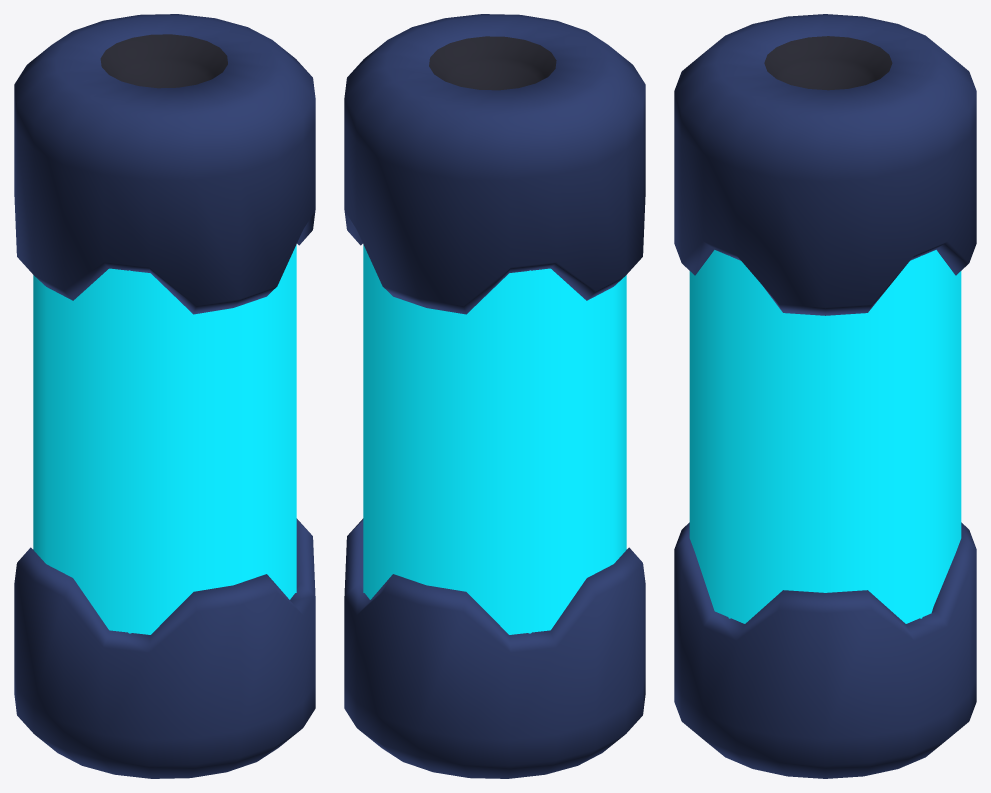
Rendered from CycleEngine_bombone_v2 (1).fbx.
3 views of the same model, side by side, from view 1: azimuth 30°, elevation 25°; view 2: azimuth 150°, elevation 25°; view 3: azimuth 270°, elevation 25° (orthographic).
Parts seen in each view (by area): view 1: middle.003; view 2: middle.003; view 3: middle.003.
Part boxes in pixels (left/top/right/bottom): middle.003: left=14, top=14, right=315, bottom=778; middle.003: left=344, top=14, right=645, bottom=778; middle.003: left=674, top=14, right=976, bottom=778.
Size of the model in its own units: 49.59 by 123 by 49.59.
